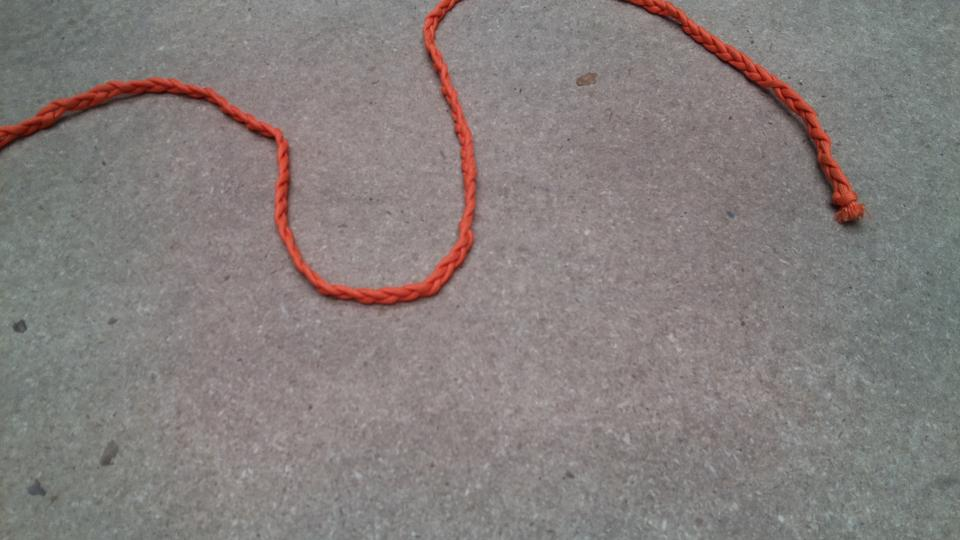rope: (1, 1, 874, 311)
